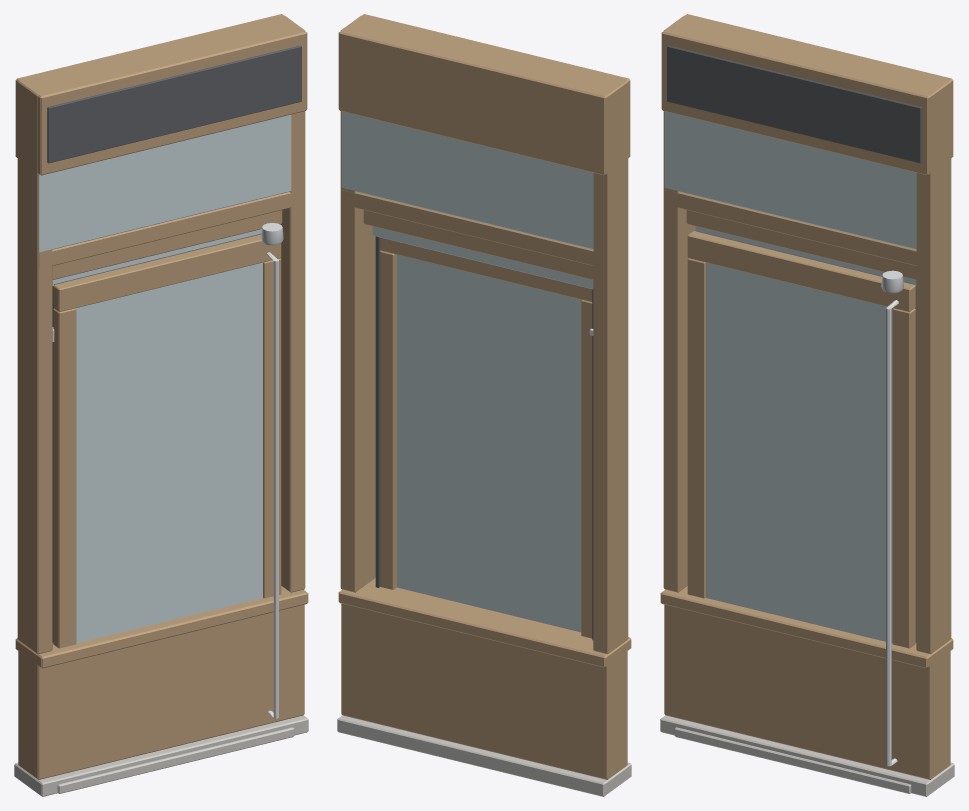
File: bakery-and-cafe-shopfront-door-module-6086381e__22225.glb
3 views of the same model, side by side, from view 1: azimuth 30°, elevation 25°; view 2: azimuth 150°, elevation 25°; view 3: azimuth 330°, elevation 25° (orthographic).
Parts seen in each view (by area): view 1: shopfront-door-module, shop-door (×4); view 2: shopfront-door-module, shop-door (×3); view 3: shopfront-door-module, shop-door (×4).
Boxes of the visible parts, <box> form: shopfront-door-module: <box>14,14,308,796</box>; shop-door (×4): <box>52,233,281,718</box>; shopfront-door-module: <box>337,14,631,796</box>; shop-door (×3): <box>375,236,593,640</box>; shopfront-door-module: <box>660,14,954,796</box>; shop-door (×4): <box>687,231,916,766</box>.
Size of the model in its own units: 1.2 by 3 by 0.254.
